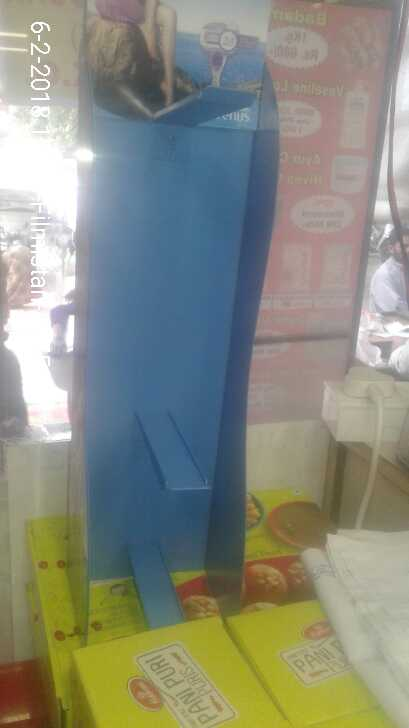reject: (102, 175, 211, 242)
